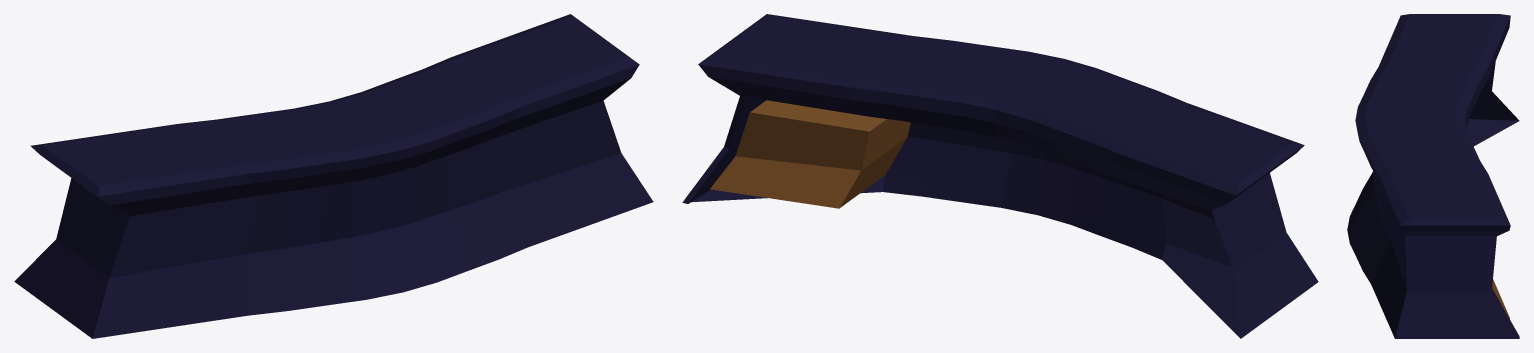
File: Desk.fbx
3 views of the same model, side by side, from view 1: azimuth 30°, elevation 25°; view 2: azimuth 150°, elevation 25°; view 3: azimuth 270°, elevation 25° (orthographic). The views are drawn at different scales.
Visible parts, largest first — view 1: Desk; view 2: Desk; view 3: Desk.
Boxes of the visible parts, x1,y1,x2,y2 form: Desk: (14, 14, 653, 338); Desk: (682, 14, 1318, 338); Desk: (1347, 14, 1519, 338).
Size of the model in its own units: 334 by 80.85 by 112.
